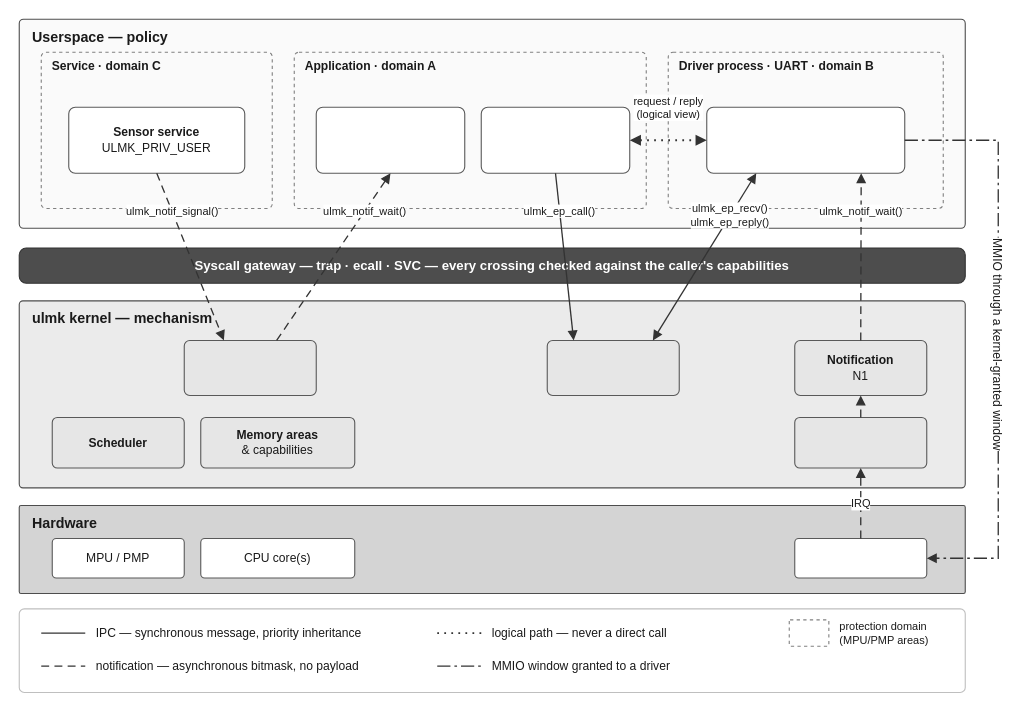
Some shapes in this 1030 by 712 pixel diagram are drawn without their labels. The shapes that lost their labels are listed below. From the top down, each one's centre as x and y in pixels, then its label:
At [390,139]: "App worker ULMK_PRIV_USER".
At [555,139]: "App thread ULMK_PRIV_USER".
At [805,139]: "UART server ULMK_PRIV_DRIVER".
At [249,367]: "Notification N2".
At [612,367]: "IPC endpoint E1".
At [860,442]: "IRQ binding line → N1".
At [860,557]: "UART peripheral".
